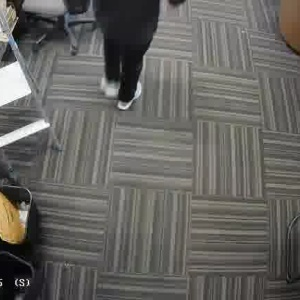person: (89, 0, 179, 102)
